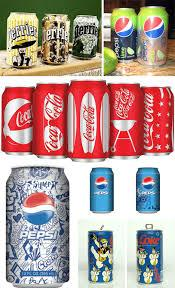Aluminum can: (3, 165, 73, 288), (33, 81, 76, 165), (69, 80, 110, 162), (127, 221, 173, 285), (109, 81, 144, 165), (139, 82, 175, 162), (1, 85, 33, 157), (83, 230, 122, 288), (39, 5, 69, 80), (7, 10, 38, 73), (106, 5, 137, 63), (88, 162, 120, 218), (140, 3, 166, 65), (133, 166, 161, 218), (75, 12, 97, 69)
